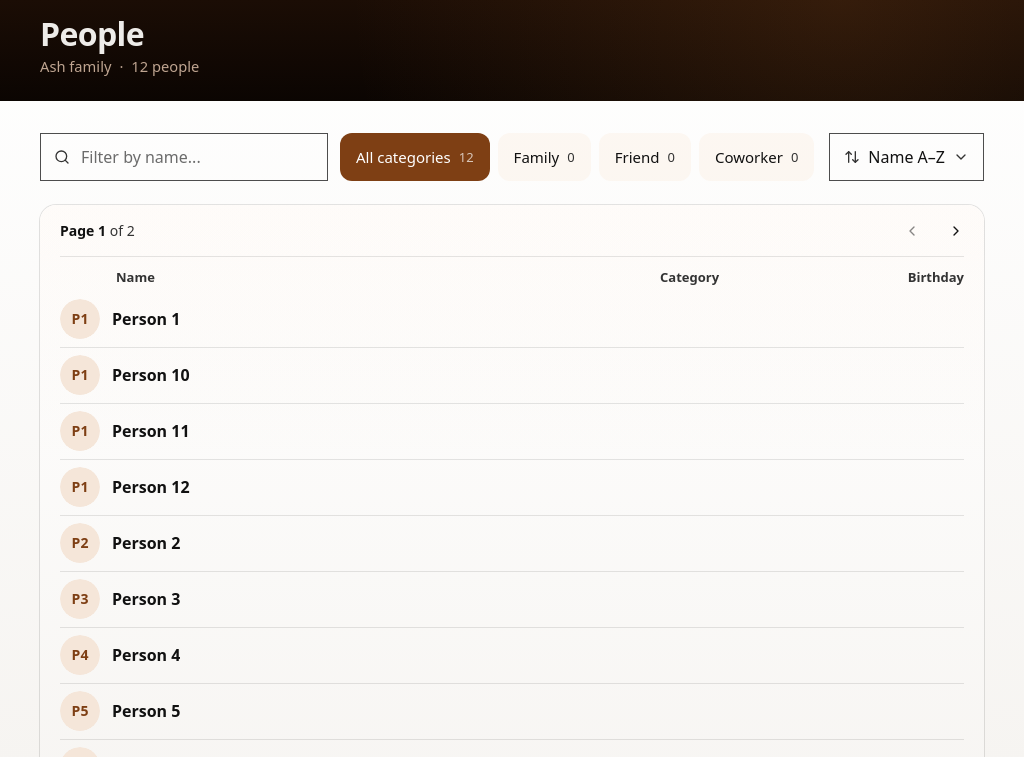
Scenario: PersonListPage sorting › goes back to page 1 when the sort changes
Click the button named "Next page" at (956, 231), box [936,211,976,251]
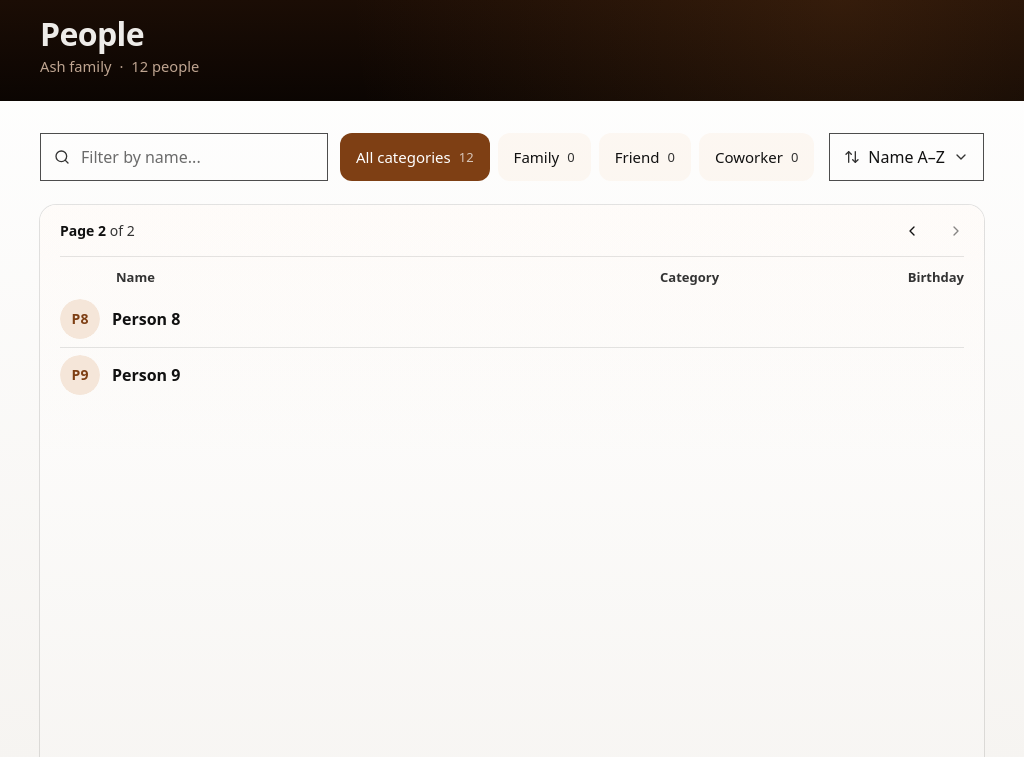
Now the navigation bar named "People pages" reads "Page 2 of 2", box [48,211,976,257]
Press Enter in the dropdown named "Sort", box [829,133,984,181]
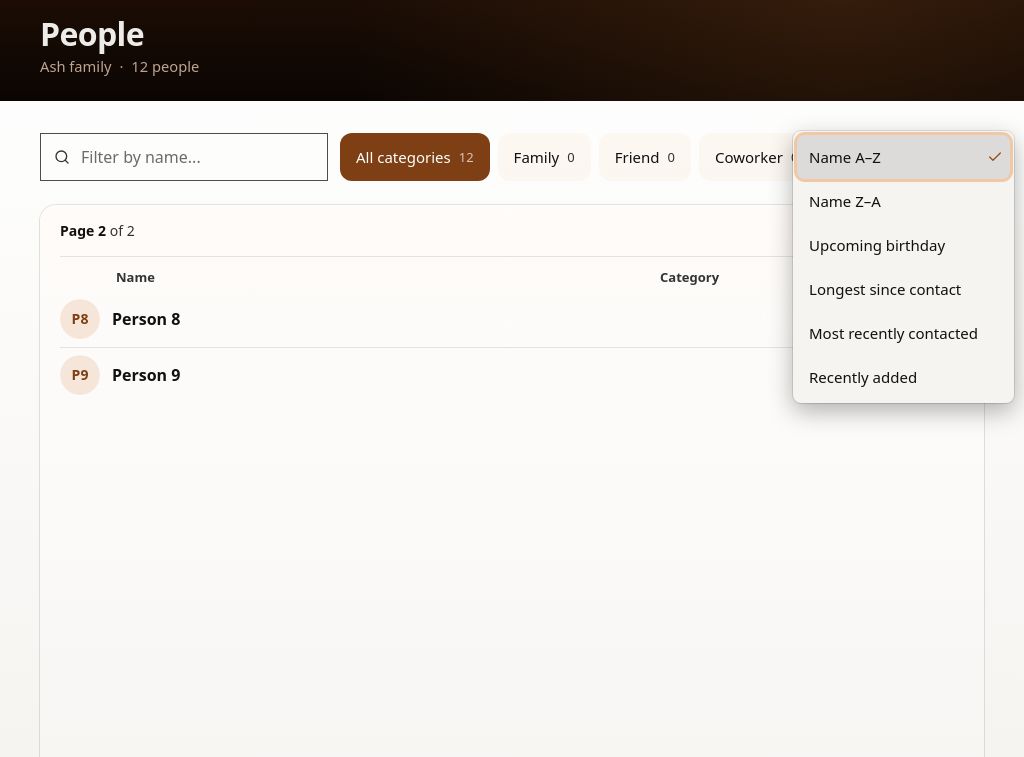
Click the option "Name Z–A" at (845, 201), box [809,191,881,211]
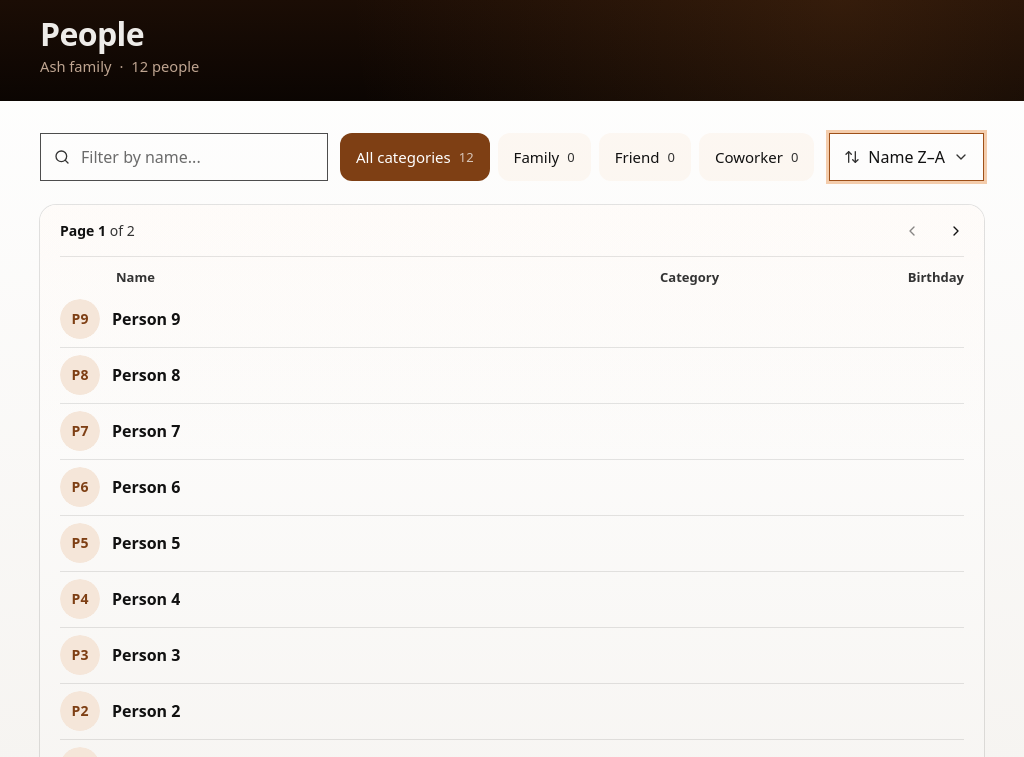
Now the navigation bar named "People pages" reads "Page 1 of 2", box [48,211,976,257]
